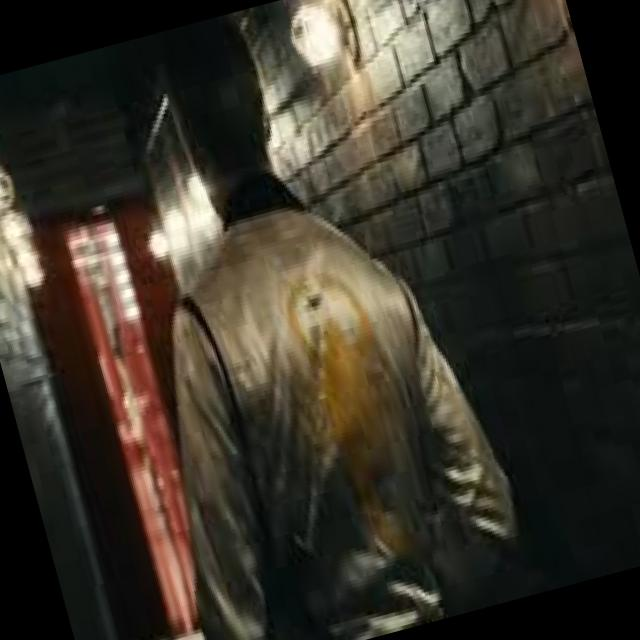Jacket: (59, 124, 572, 640)
